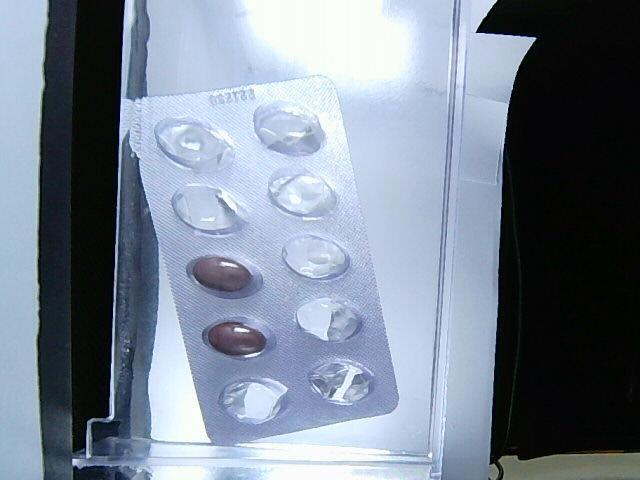Light Front: (121, 76, 400, 446)
No Pill Front: (154, 111, 239, 175), (165, 181, 257, 235), (251, 99, 328, 158), (264, 162, 341, 220), (214, 374, 294, 429), (292, 291, 364, 348), (304, 355, 379, 408), (279, 231, 354, 283)
Pill Front: (197, 311, 280, 362), (186, 250, 258, 297)
